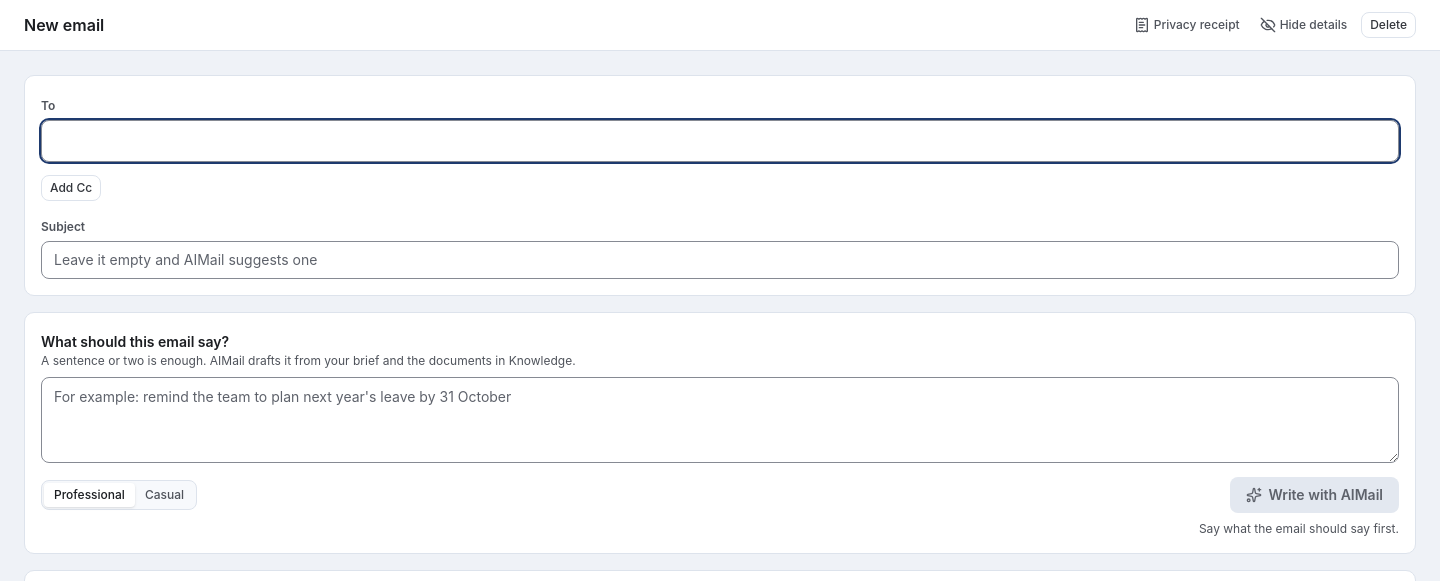
Scenario: autosave › an edit still waiting to save is saved before the write starts
Replace the text in the text box labelled "What should this email say?" with "Tell them" at (720, 420), box [41,377,1399,463]
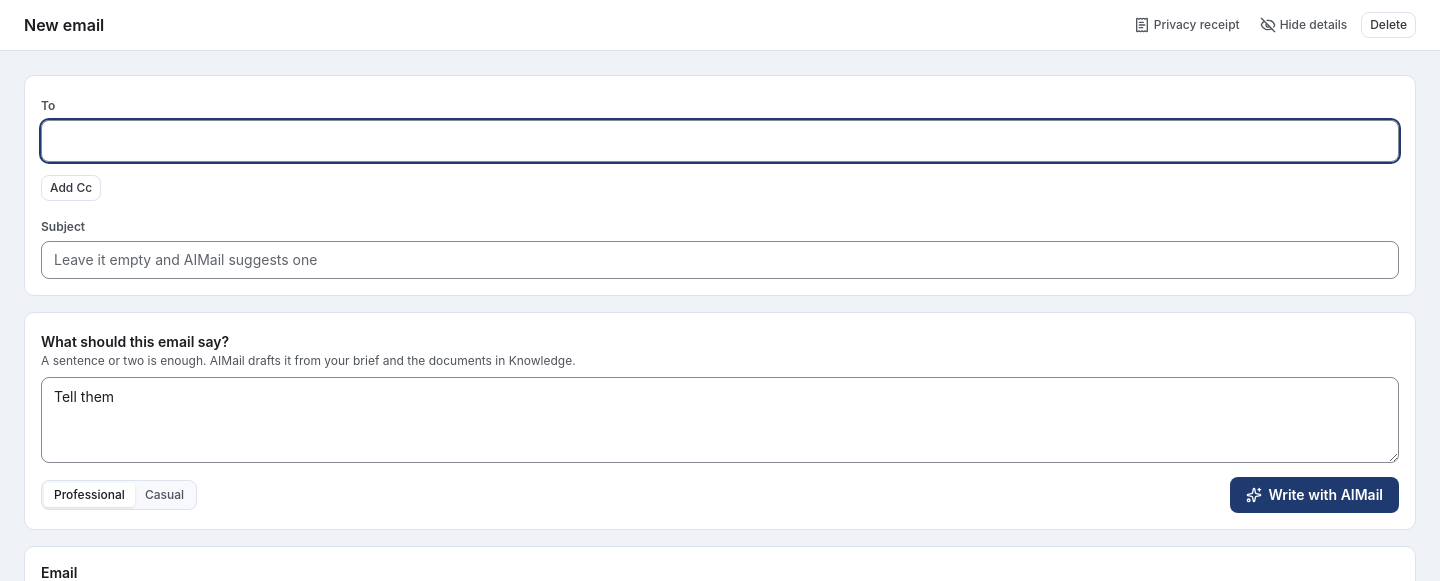
Click the button "Write with AIMail" at (1315, 495), box [1230,477,1399,513]
(page scrolled)
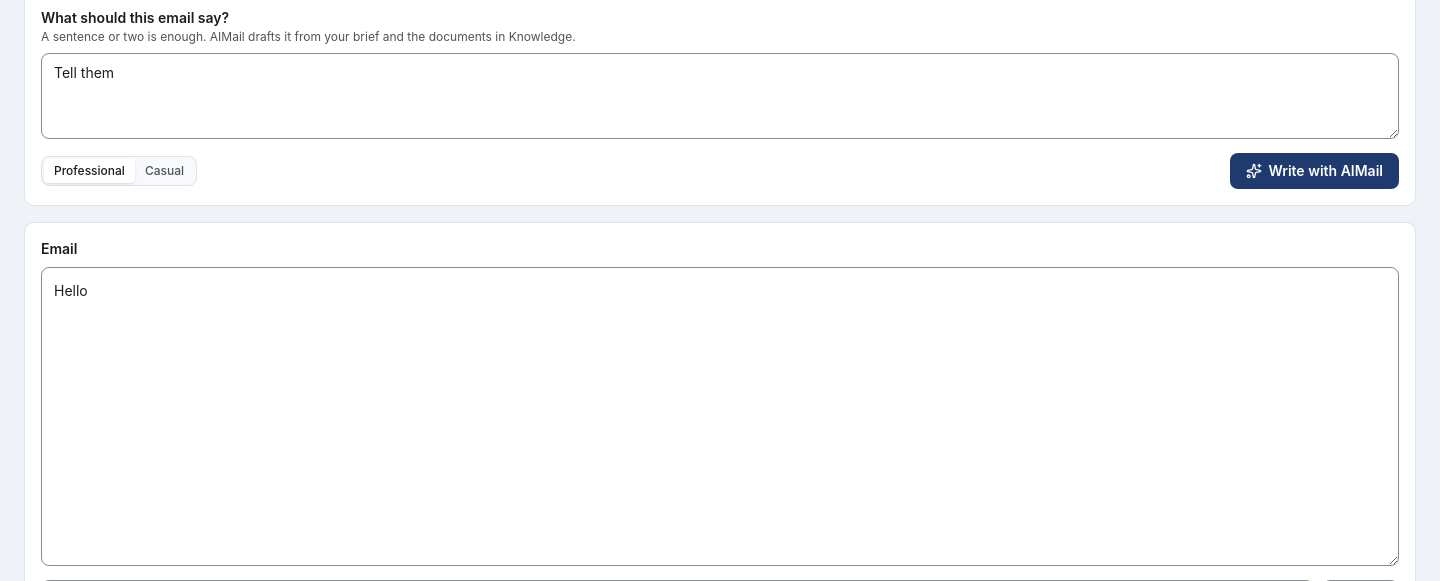
Check: the text box showing "Hello" is shown, box [41,267,1399,566]
